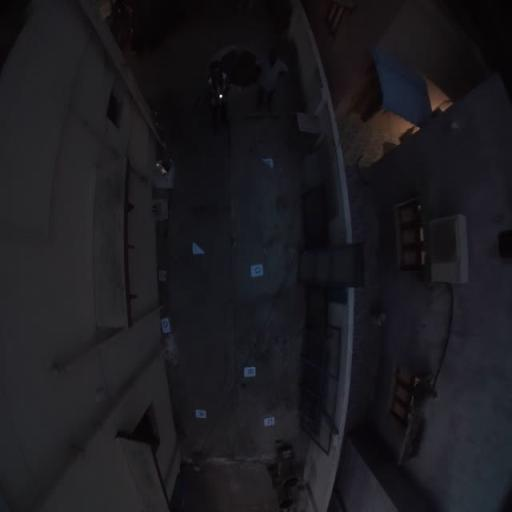A: (195, 409, 207, 419)
B: (244, 366, 256, 377)
C: (264, 417, 275, 427)
D: (161, 317, 171, 334)
G: (250, 264, 264, 278)
